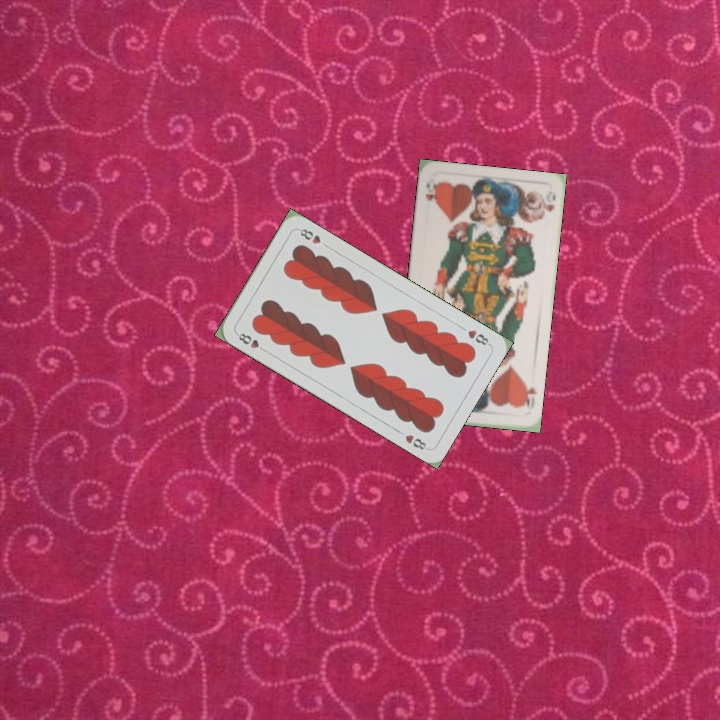H8: (232, 329, 269, 355), (464, 326, 493, 349)
HO: (518, 378, 540, 412), (421, 177, 440, 207)
